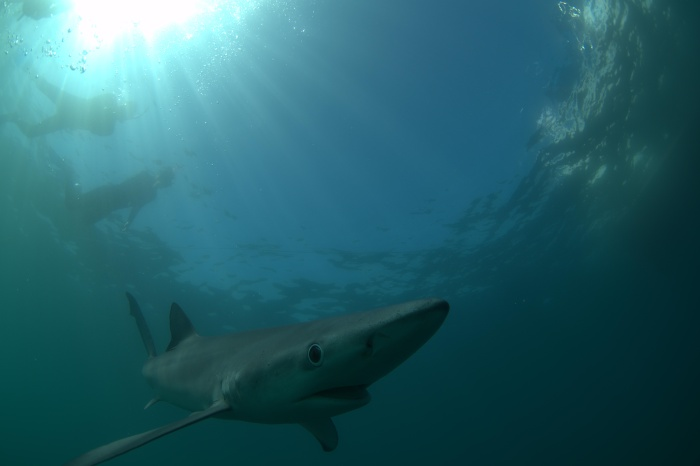Azul: (65, 267, 467, 466)
